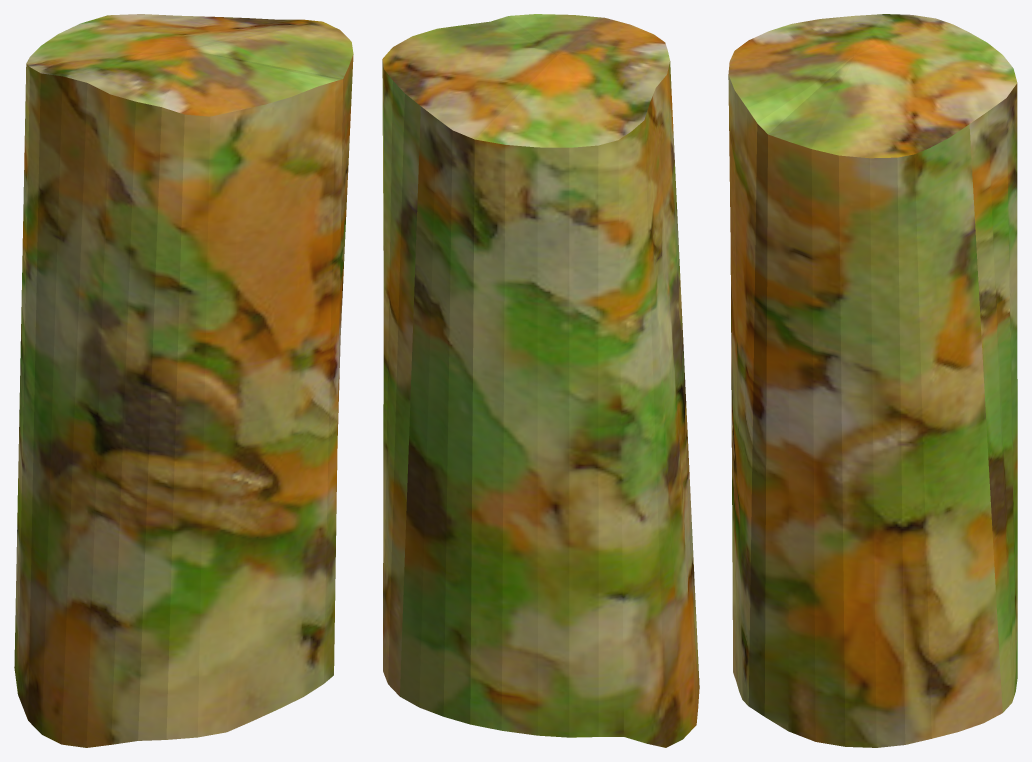
Rendered from flock.dae.
The picture shows the model from 3 angles, left to right: view 1: azimuth 30°, elevation 25°; view 2: azimuth 150°, elevation 25°; view 3: azimuth 270°, elevation 25°; orthographic projection. The views are drawn at different scales.
Parts seen in each view (by area): view 1: Cylinder; view 2: Cylinder; view 3: Cylinder.
Boxes of the visible parts, x1,y1,x2,y2 form: Cylinder: (14, 14, 353, 747); Cylinder: (382, 14, 699, 747); Cylinder: (728, 14, 1017, 747).
Bounding box in the file's own units: 0.5205 × 0.4422 × 1.1.
Materials: 1 (1 with a texture image).
